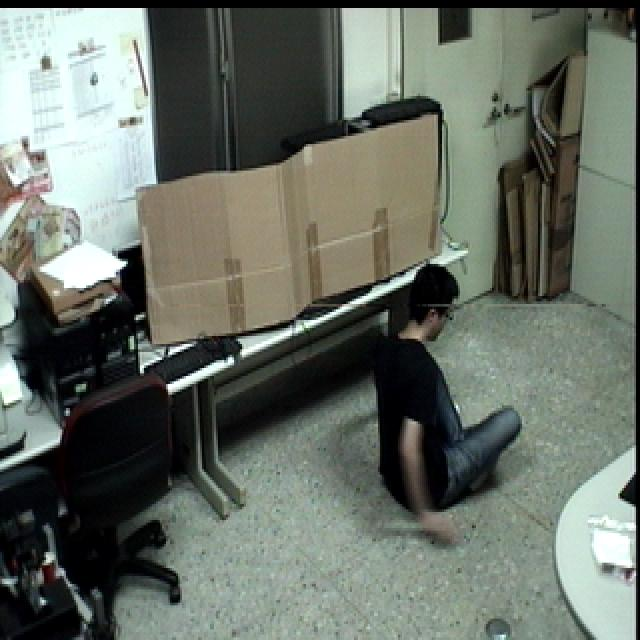sit: (368, 252, 526, 554)
